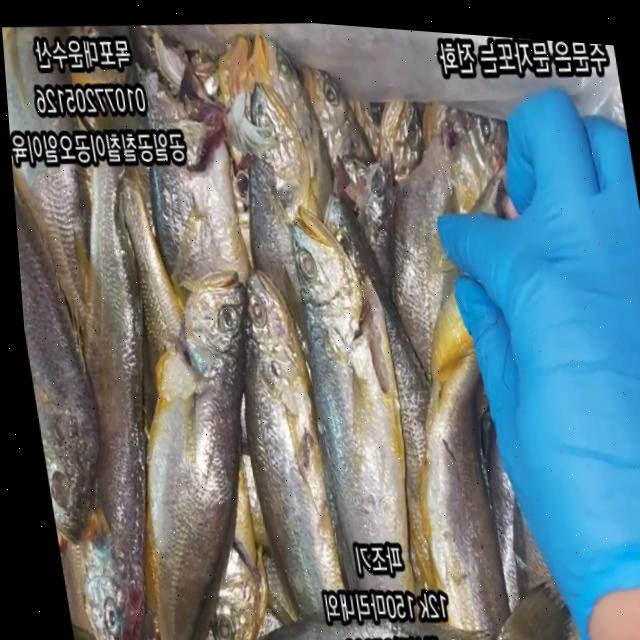Wet: (10, 151, 187, 640), (93, 255, 295, 640), (280, 190, 423, 595), (217, 256, 343, 616), (390, 330, 516, 638)
